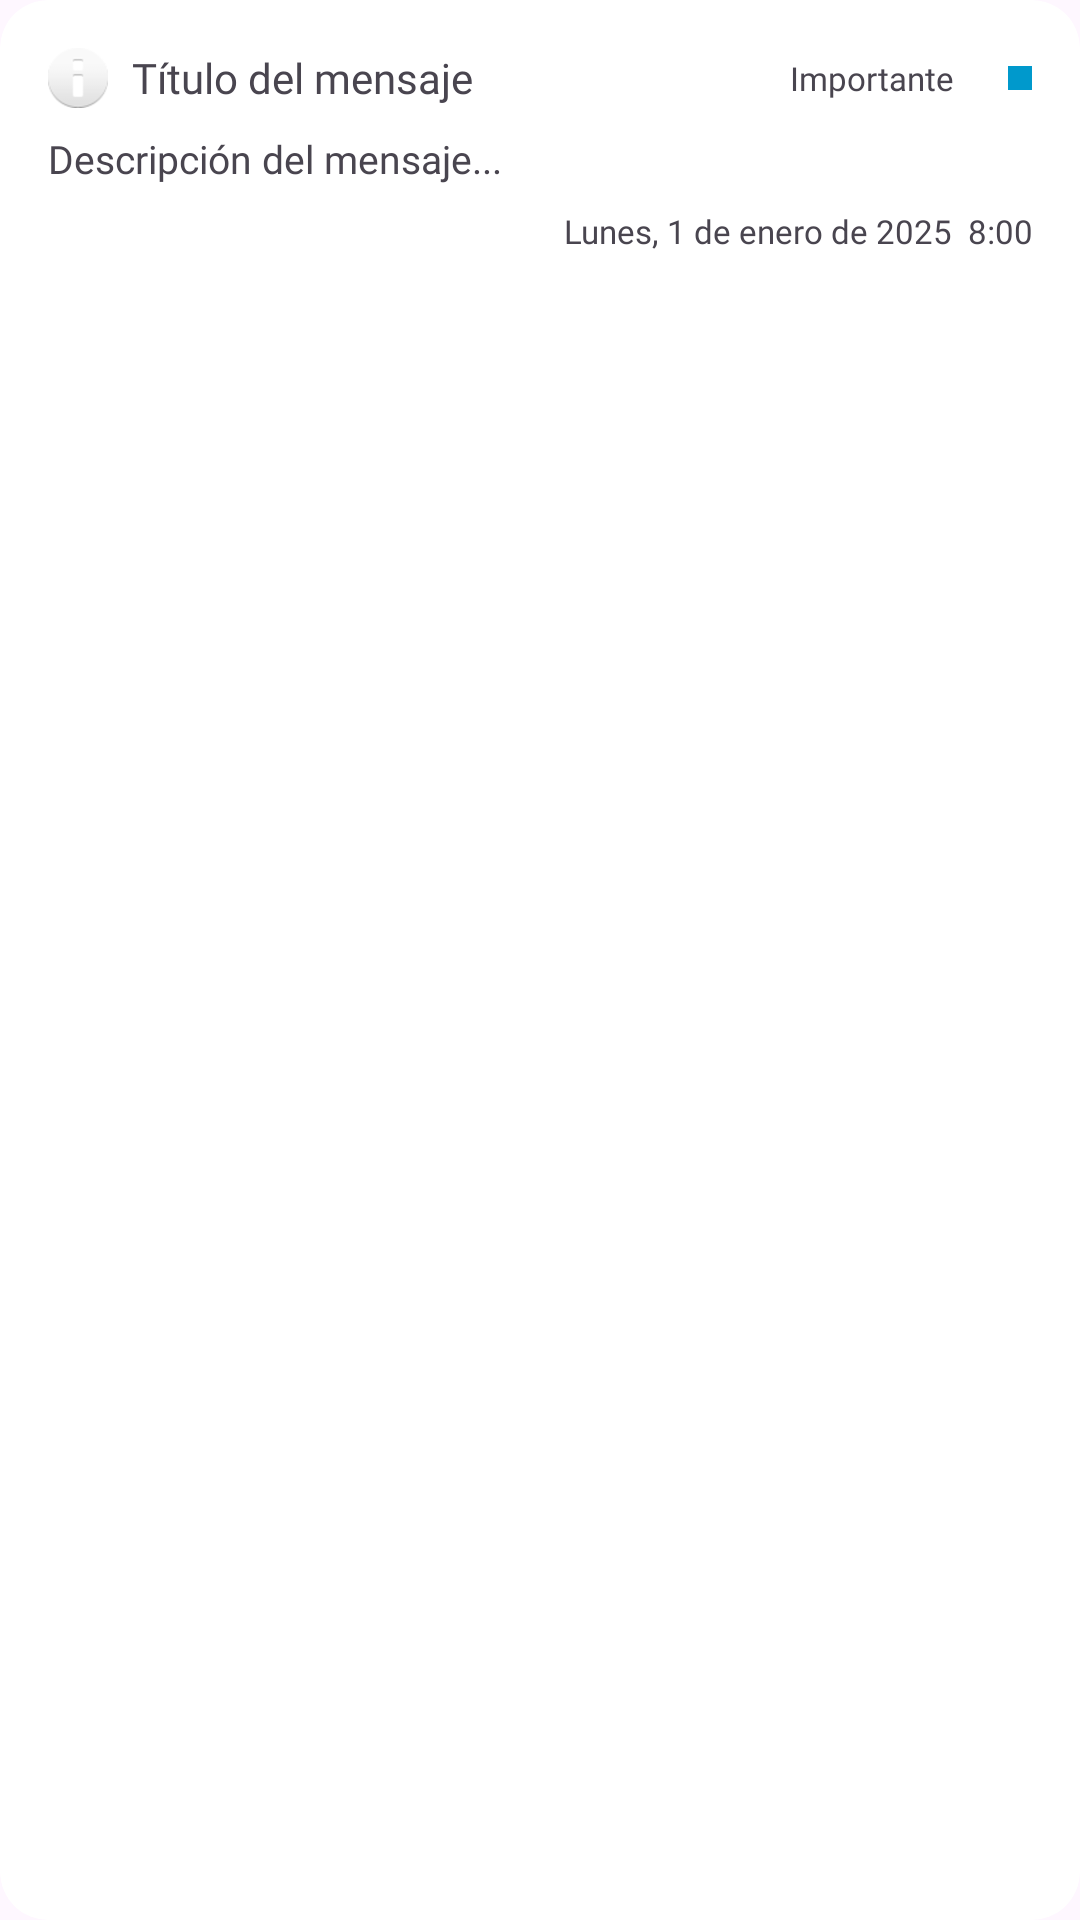

Locate icon controls on the screen. Image size 1080×1920, boxes as box(x1, y1, x2, y2).
info: box(48, 59, 108, 108)
